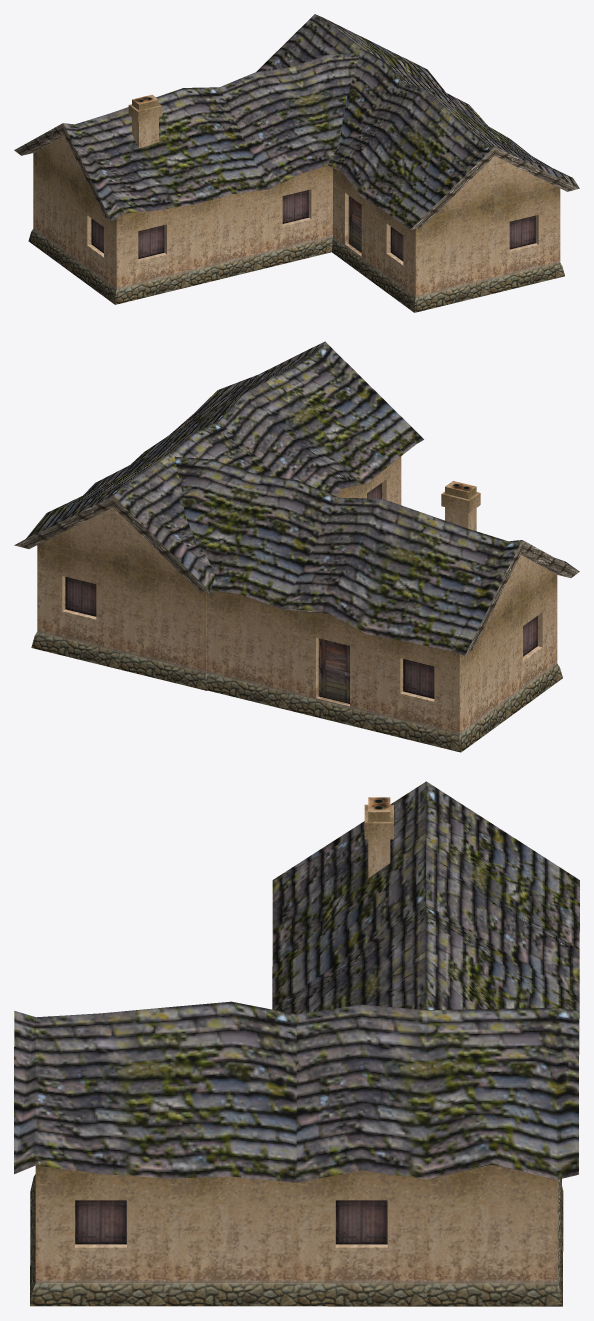
File: s44_b_house_2_4.dae
3 renders of one model, top to bottom at view 1: azimuth 30°, elevation 25°; view 2: azimuth 150°, elevation 25°; view 3: azimuth 270°, elevation 25°, orthographic. The views are drawn at different scales.
Parts seen in each view (by area): view 1: Untitled; view 2: Untitled; view 3: Untitled.
Boxes of the visible parts, x1,y1,x2,y2 form: Untitled: [14, 14, 579, 312]; Untitled: [14, 341, 579, 752]; Untitled: [14, 781, 579, 1306].
Size of the model in its own units: 128 by 104 by 54.08.
Materials: 1 (1 with a texture image).
